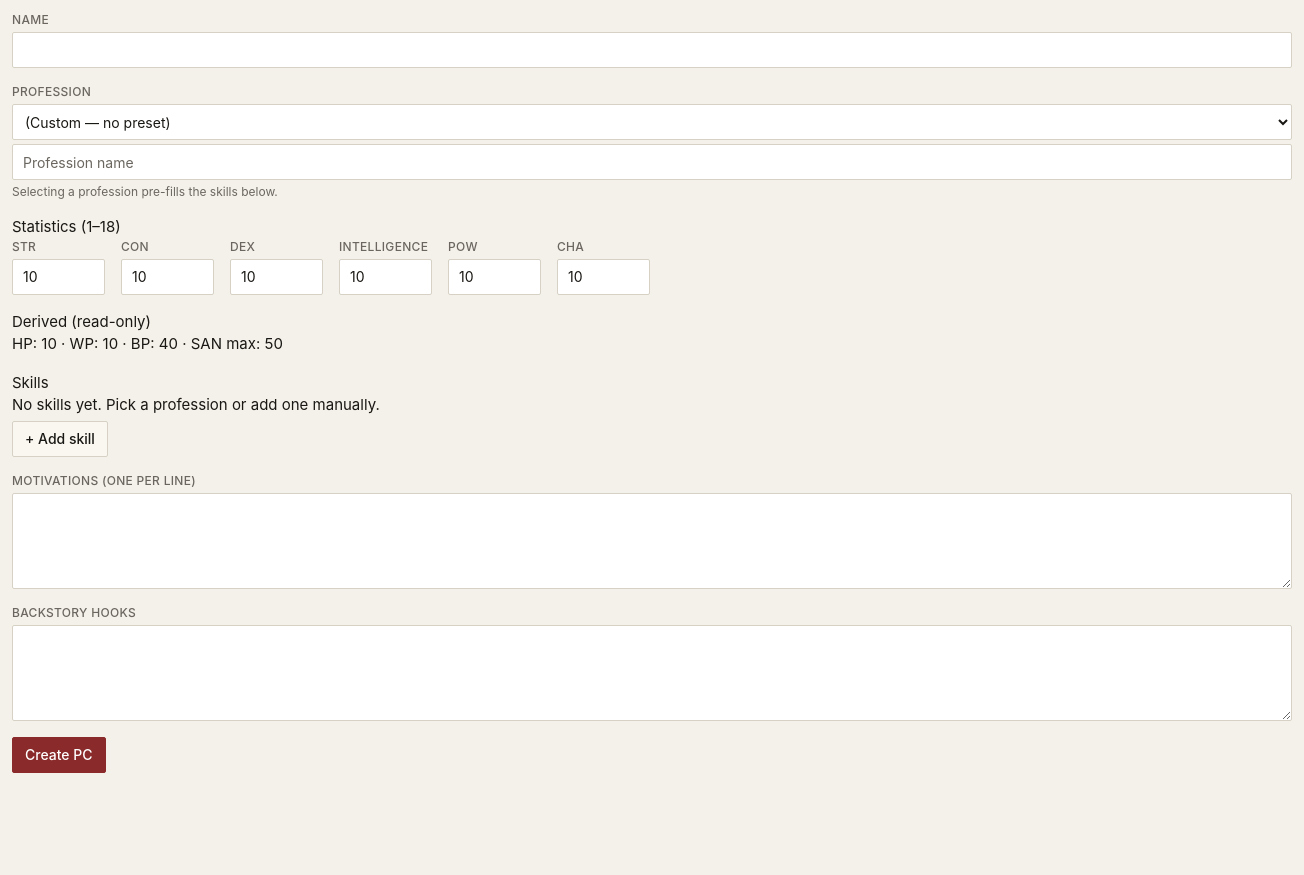
Test: CharacterForm › clears all skills when switching to "(Custom — no preset)"
Select "Federal Agent" in the dropdown labelled "Profession": (652, 122) [12,104,1292,140]
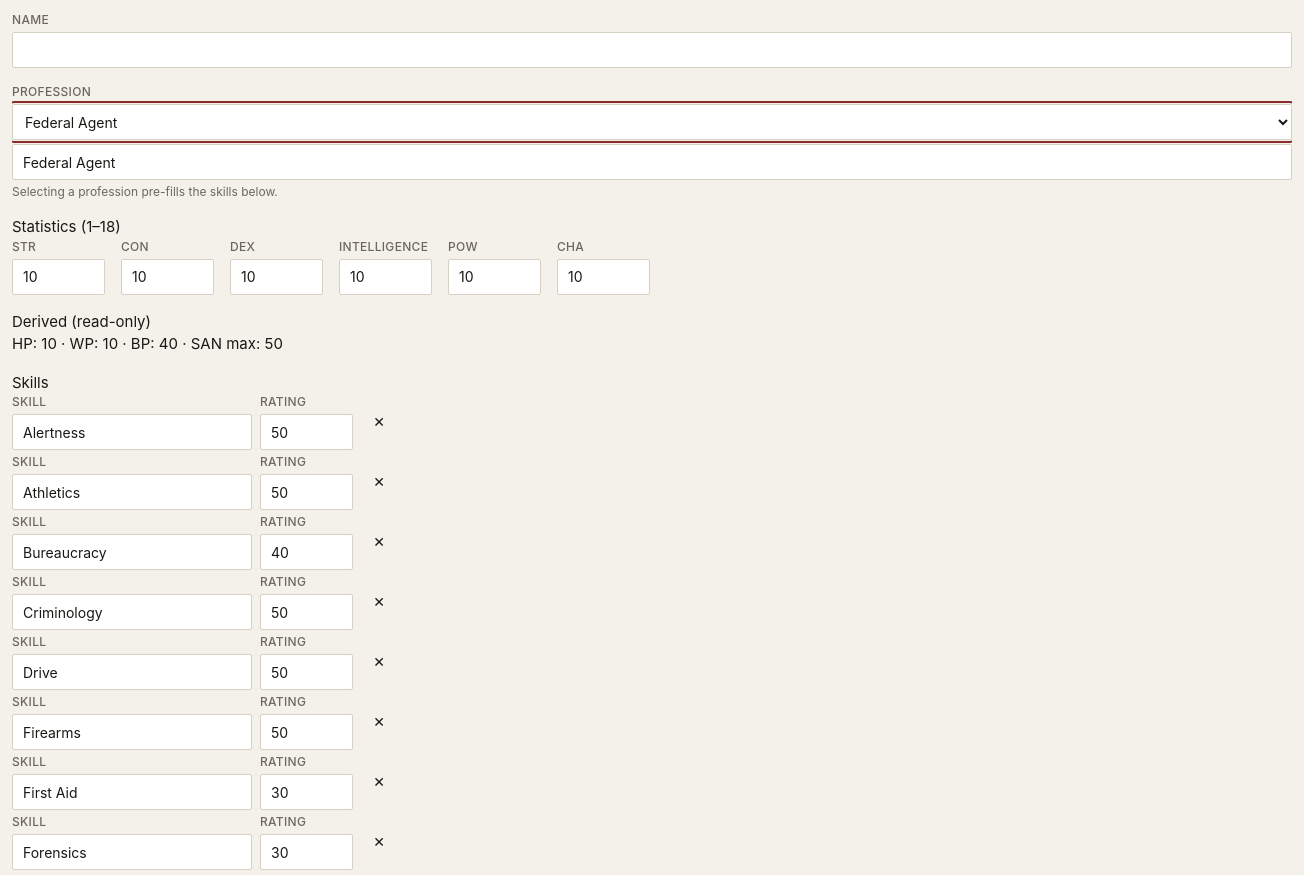
Check: the 1st field labelled "Skill" is shown, box [12,414,252,450]
// Selecting the leading custom option clears the list.
Select "(Custom — no preset)" in the dropdown labelled "Profession": (652, 122) [12,104,1292,140]
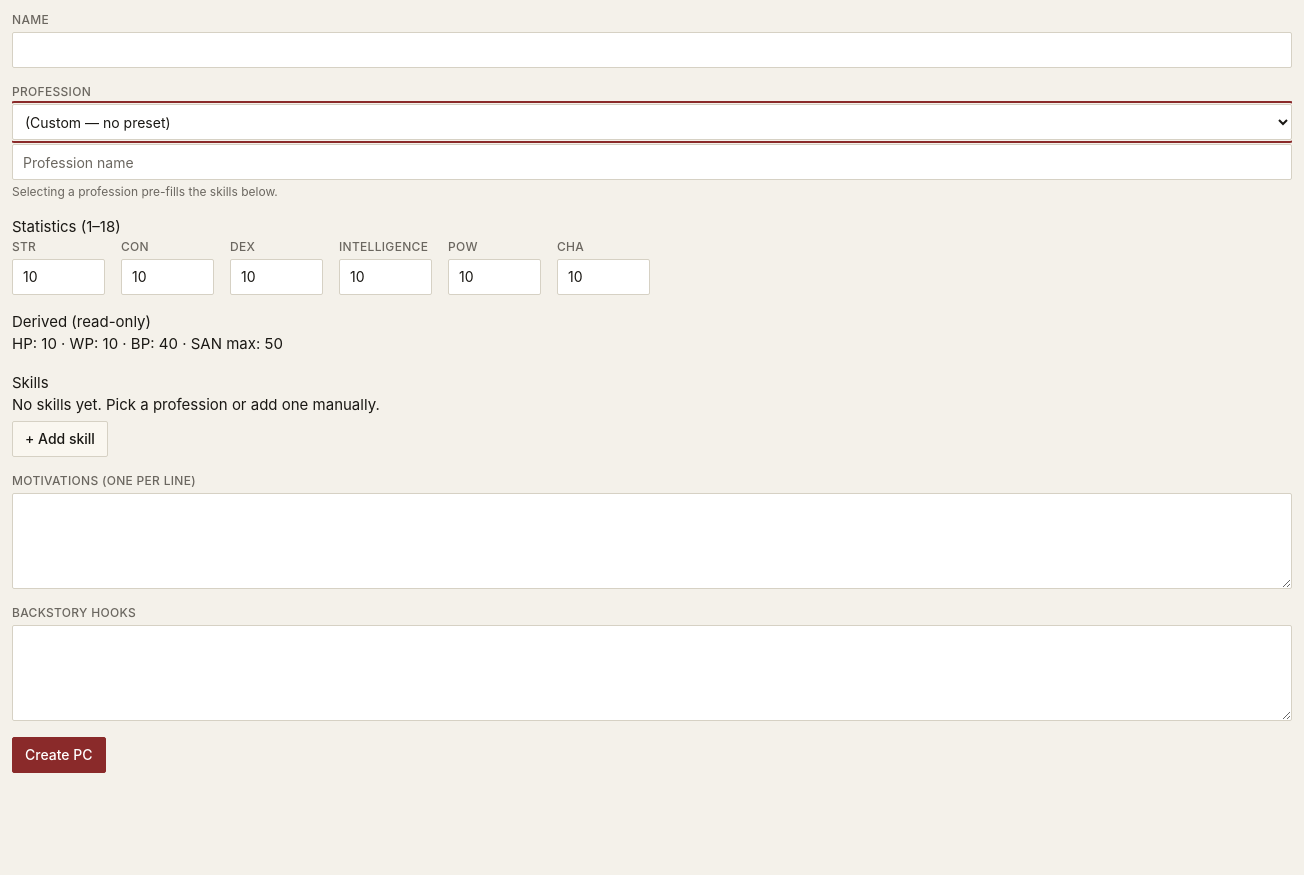
Check: the text "No skills yet. Pick a profession or add one manually." is shown, box [12,395,380,414]
